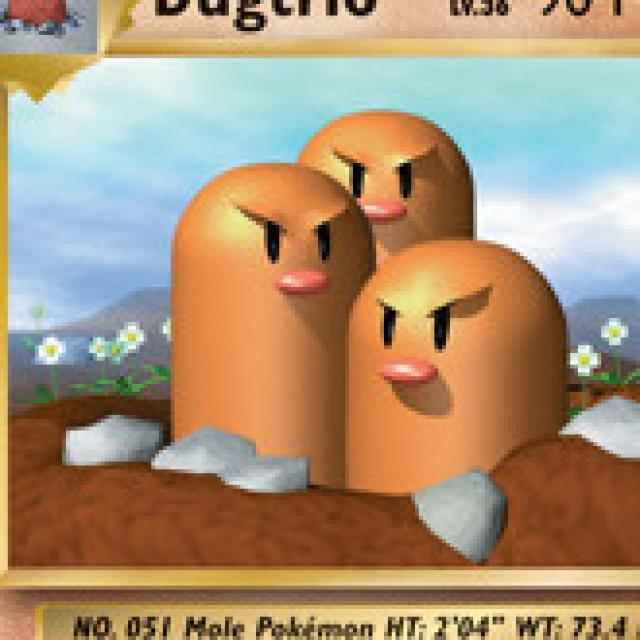Dugtrio: (167, 102, 571, 495)
